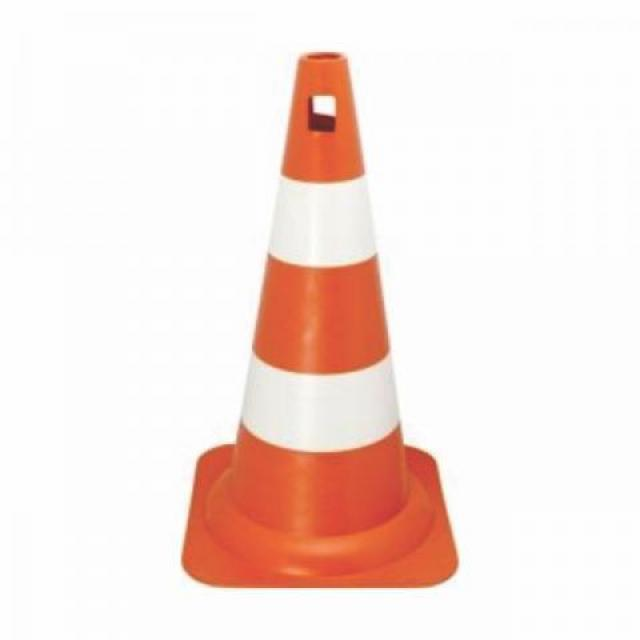cone: (183, 46, 468, 584)
